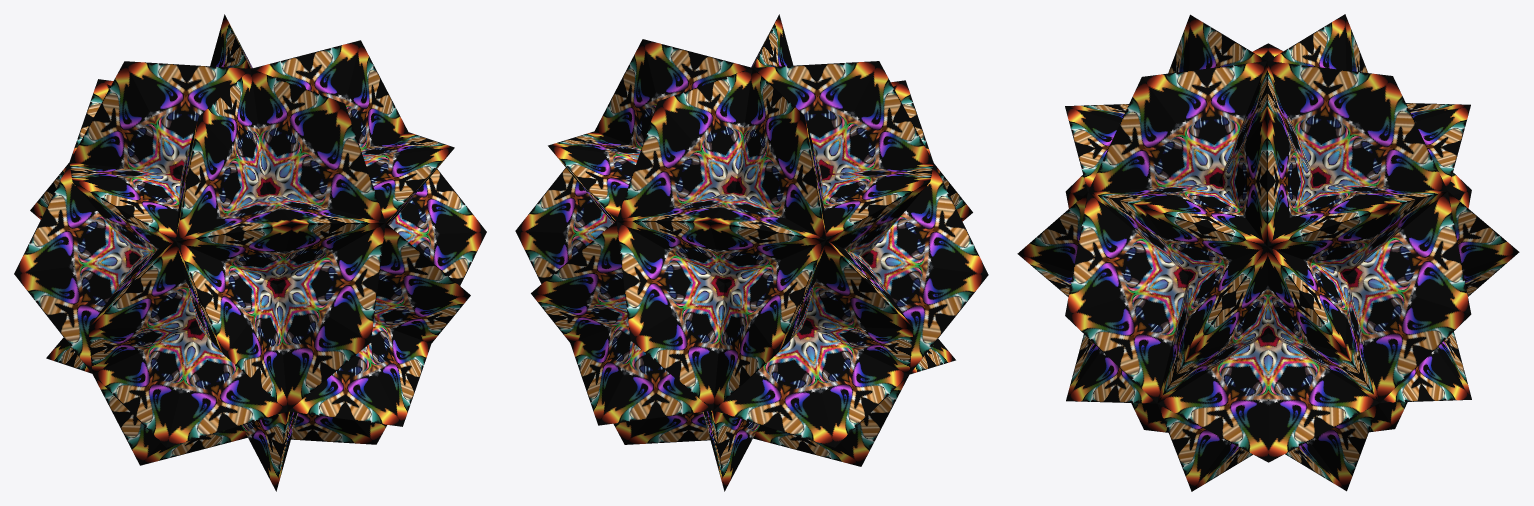
The model's file is Mobius120a_12.obj.
3 views of the same model, side by side, from view 1: azimuth 30°, elevation 25°; view 2: azimuth 150°, elevation 25°; view 3: azimuth 270°, elevation 25° (orthographic). The views are drawn at different scales.
Bounding box in the file's own units: 3.62 × 3.25 × 3.8.
Materials: 1 (1 with a texture image).
